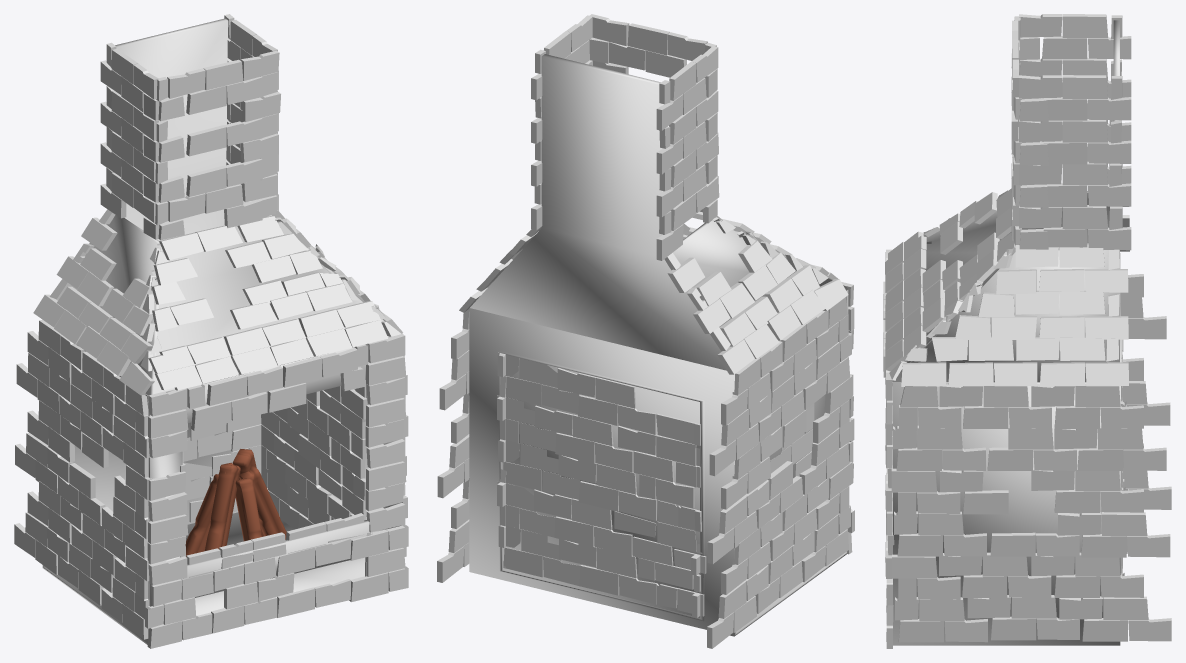
The model's file is Furnace.fbx.
The picture shows the model from 3 angles, left to right: view 1: azimuth 30°, elevation 25°; view 2: azimuth 150°, elevation 25°; view 3: azimuth 270°, elevation 25°; orthographic projection. The views are drawn at different scales.
Parts seen in each view (by area): view 1: Brick; view 2: Brick; view 3: Brick.
Part boxes in pixels (<box>): Brick: <box>14,14,408,648</box>; Brick: <box>437,14,854,648</box>; Brick: <box>883,14,1171,648</box>.
Size of the model in its own units: 207 by 382 by 186.
